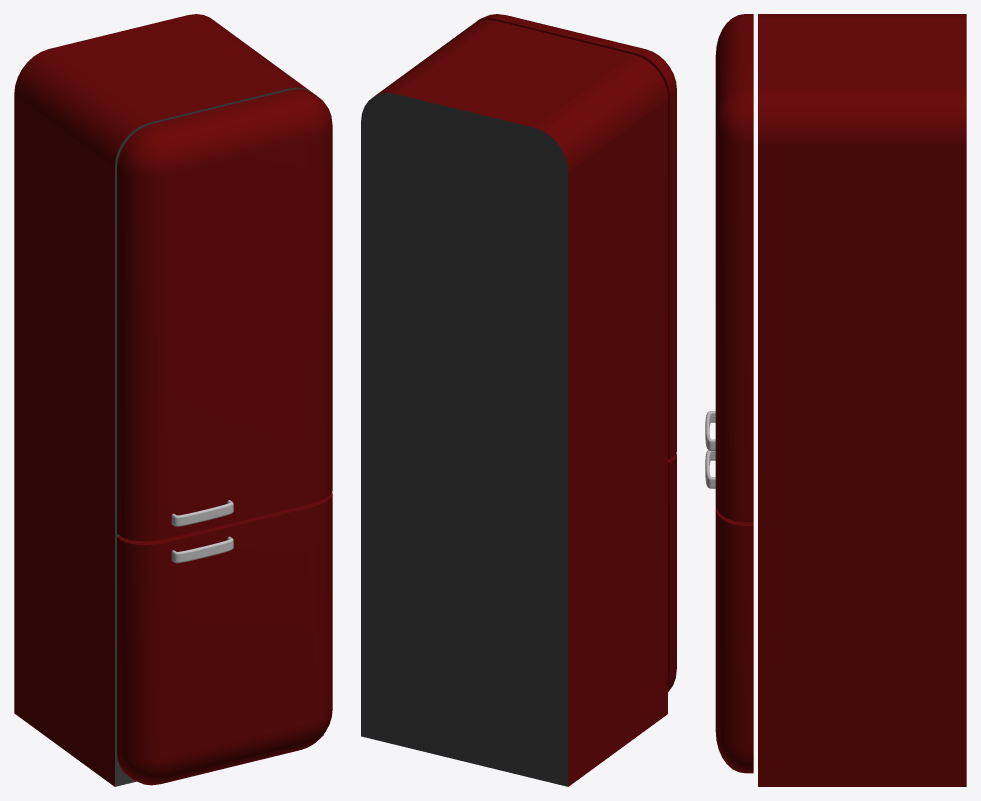
File: frigo.obj
3 renders of one model, left to right at view 1: azimuth 30°, elevation 25°; view 2: azimuth 150°, elevation 25°; view 3: azimuth 270°, elevation 25°, orthographic. The views are drawn at different scales.
Visible parts, largest first — view 1: ChamferBox03_3, Rectangle12_4, Rectangle1218_5, Loft12_1, Loft13_2; view 2: Rectangle1218_5, Rectangle12_4, ChamferBox03_3; view 3: Rectangle12_4, ChamferBox03_3.
Boxes of the visible parts, x1,y1,x2,y2 form: ChamferBox03_3: [117, 89, 332, 785]; Rectangle12_4: [14, 14, 309, 786]; Rectangle1218_5: [115, 87, 323, 786]; Loft12_1: [171, 536, 233, 563]; Loft13_2: [171, 500, 233, 526]; Rectangle1218_5: [361, 93, 568, 786]; Rectangle12_4: [375, 20, 667, 786]; ChamferBox03_3: [475, 14, 676, 691]; Rectangle12_4: [758, 14, 966, 786]; ChamferBox03_3: [715, 14, 753, 773].
Size of the model in its own units: 60 by 180 by 62.6.
